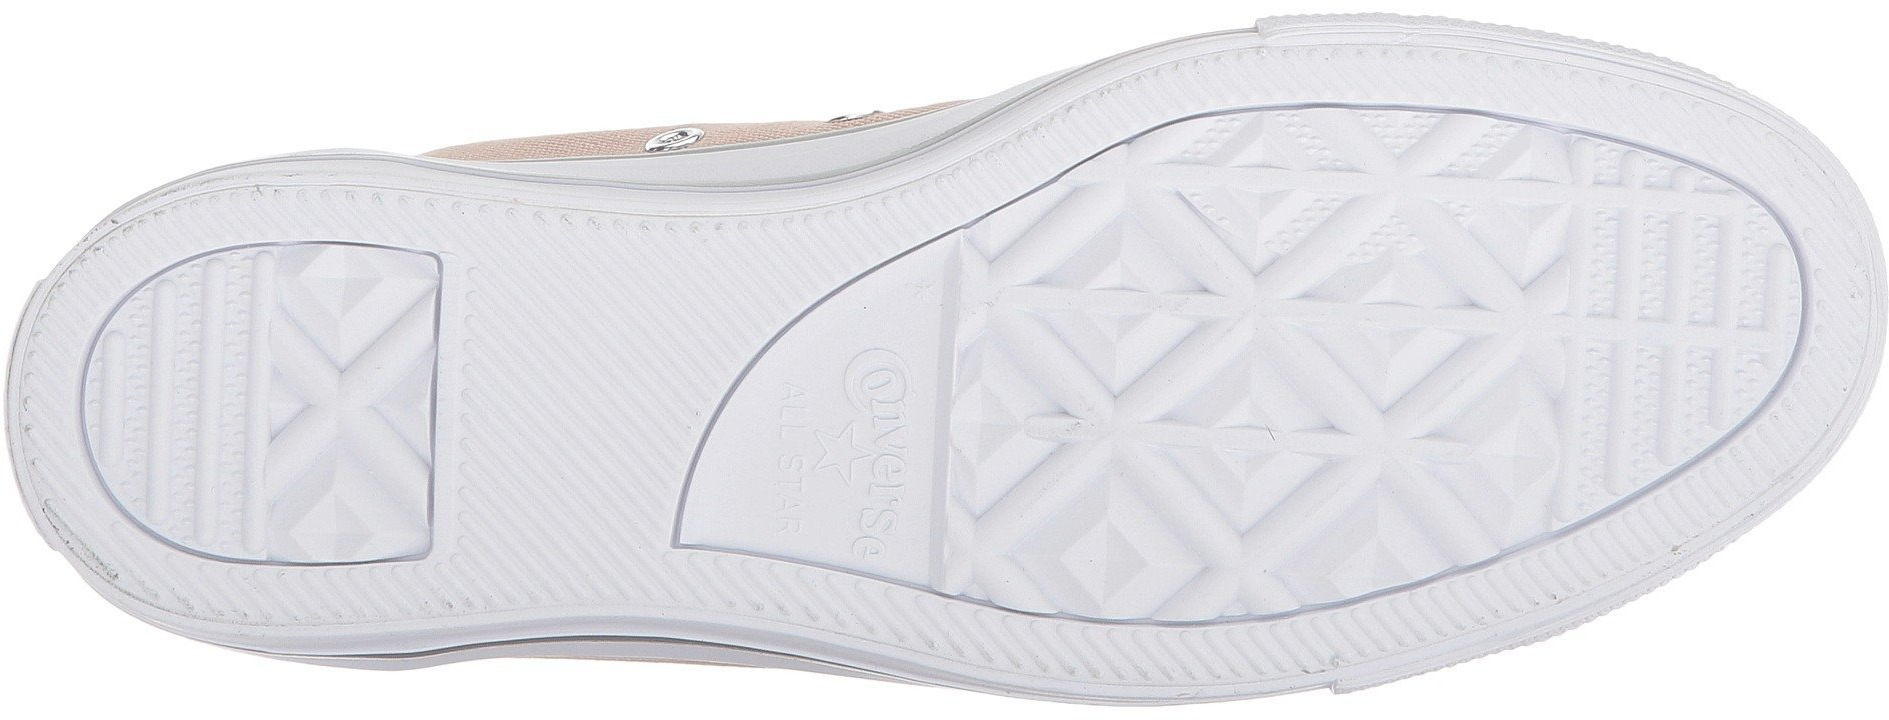line: (461, 208, 666, 594)
quad: (100, 338, 260, 478)
text: (778, 327, 937, 565)
triangle: (1037, 201, 1459, 579)
